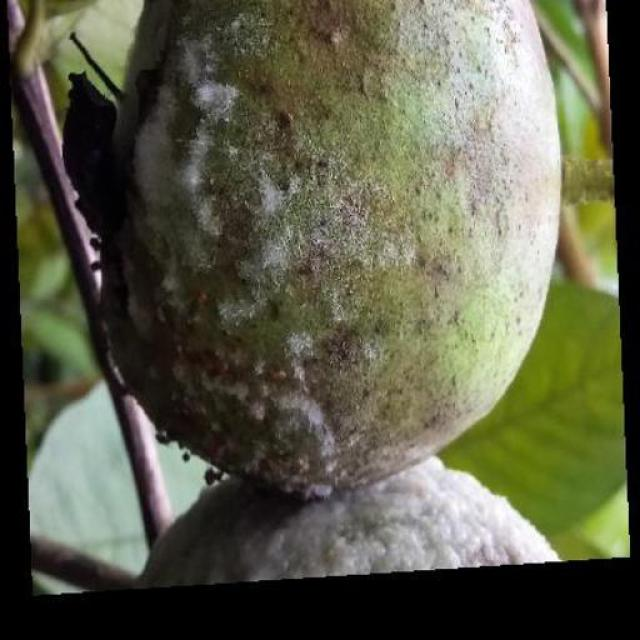Phytopthora: (71, 0, 560, 494)
